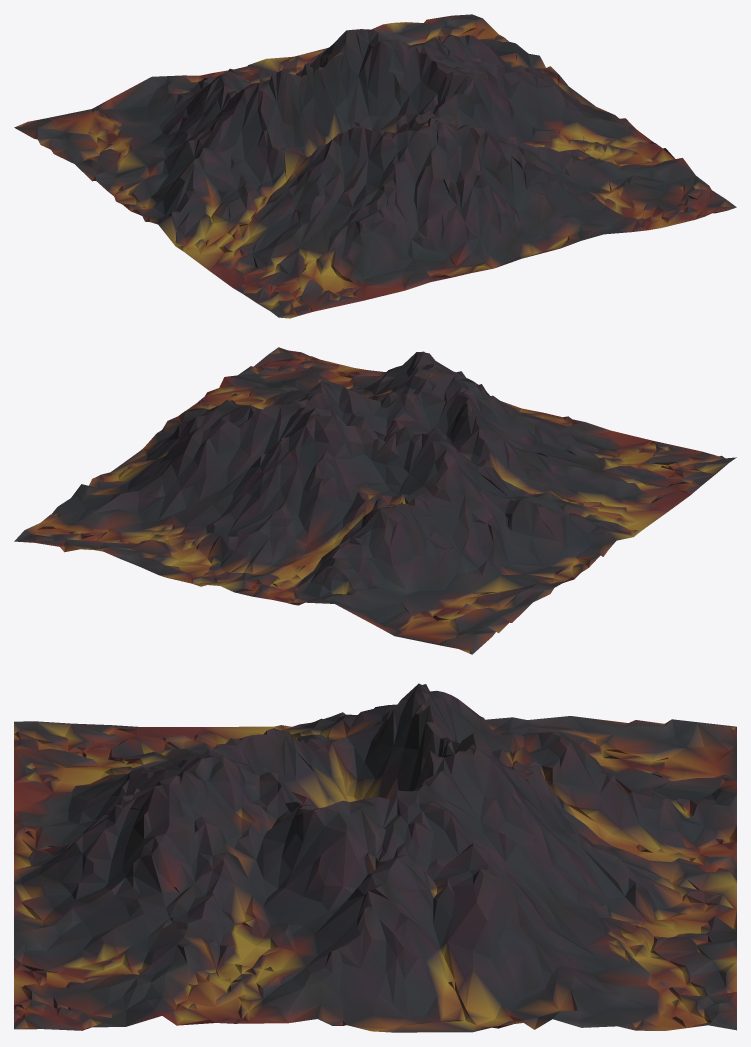
The model's file is volcano.glb.
3 renders of one model, top to bottom at view 1: azimuth 30°, elevation 25°; view 2: azimuth 150°, elevation 25°; view 3: azimuth 270°, elevation 25°, orthographic. The views are drawn at different scales.
Parts seen in each view (by area): view 1: Volcano_001; view 2: Volcano_001; view 3: Volcano_001.
Boxes of the visible parts, left/top/right/bottom form: Volcano_001: left=14, top=14, right=736, bottom=318; Volcano_001: left=14, top=347, right=736, bottom=654; Volcano_001: left=14, top=683, right=736, bottom=1032.
Size of the model in its own units: 2 by 0.4631 by 2.
